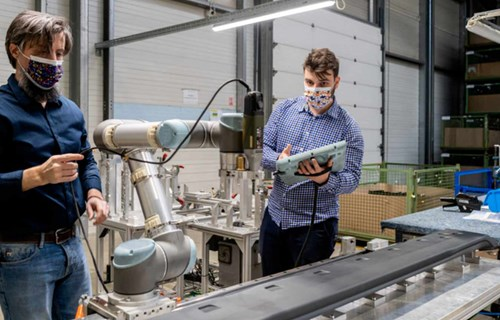person: (1, 10, 111, 320), (263, 48, 367, 277)
robot: (92, 76, 267, 300)
